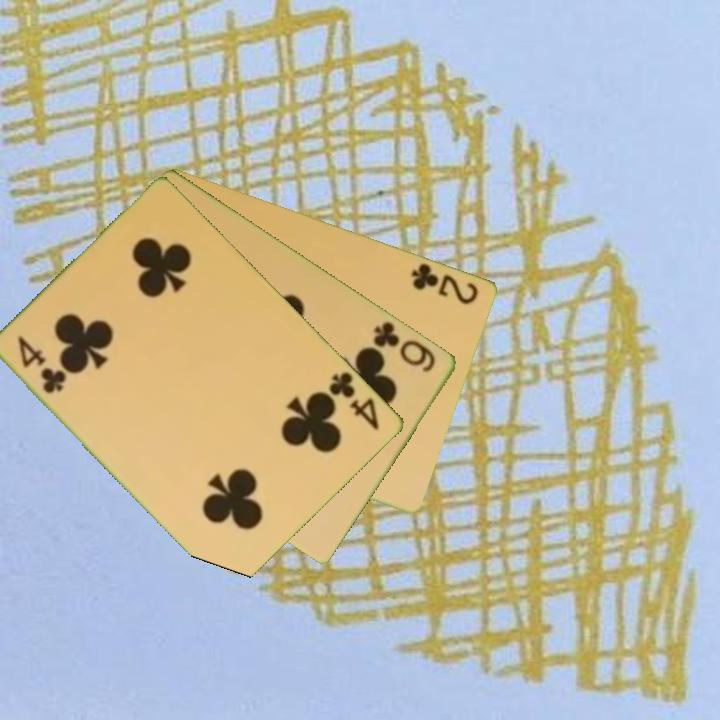2c: (408, 259, 482, 307)
4c: (326, 368, 383, 433), (14, 332, 70, 397)
6c: (370, 317, 439, 376)
